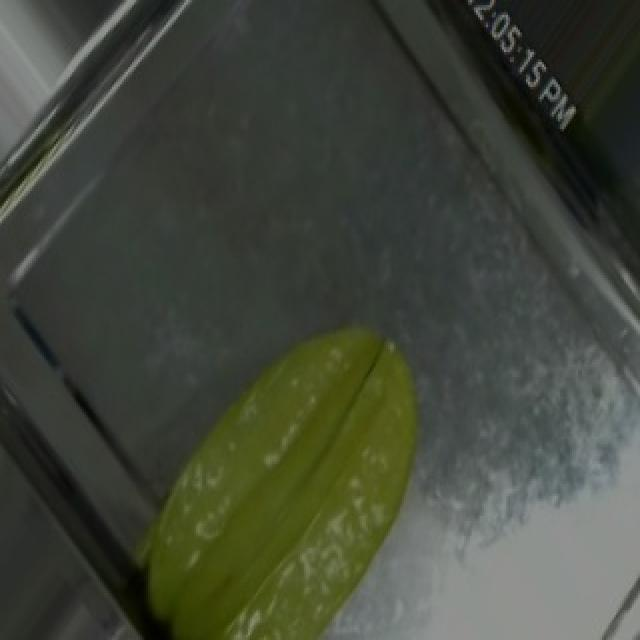fruit: (90, 270, 476, 640)
